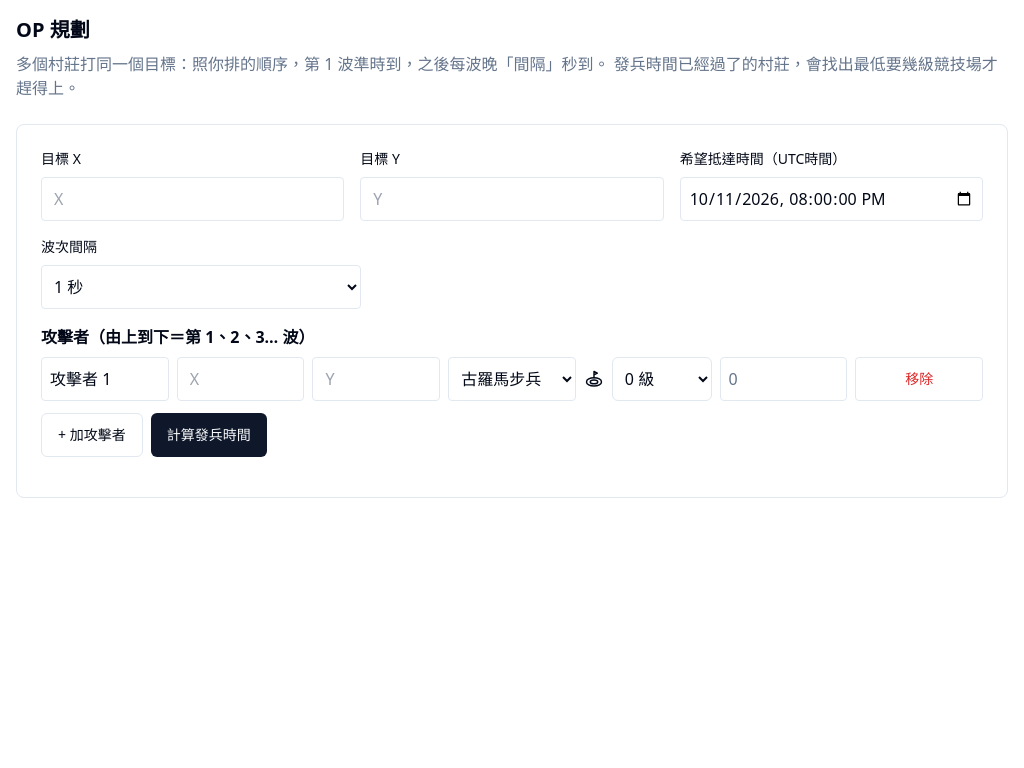
Test: 新欄位不填：送出的值跟以前一樣（新欄位都是 0，後端預設也是 0；PM） › TS optimizer
The width and height of the screenshot is (1024, 768).
In the field with test id "-y": [193, 199] box [41, 177, 344, 221], type "0"
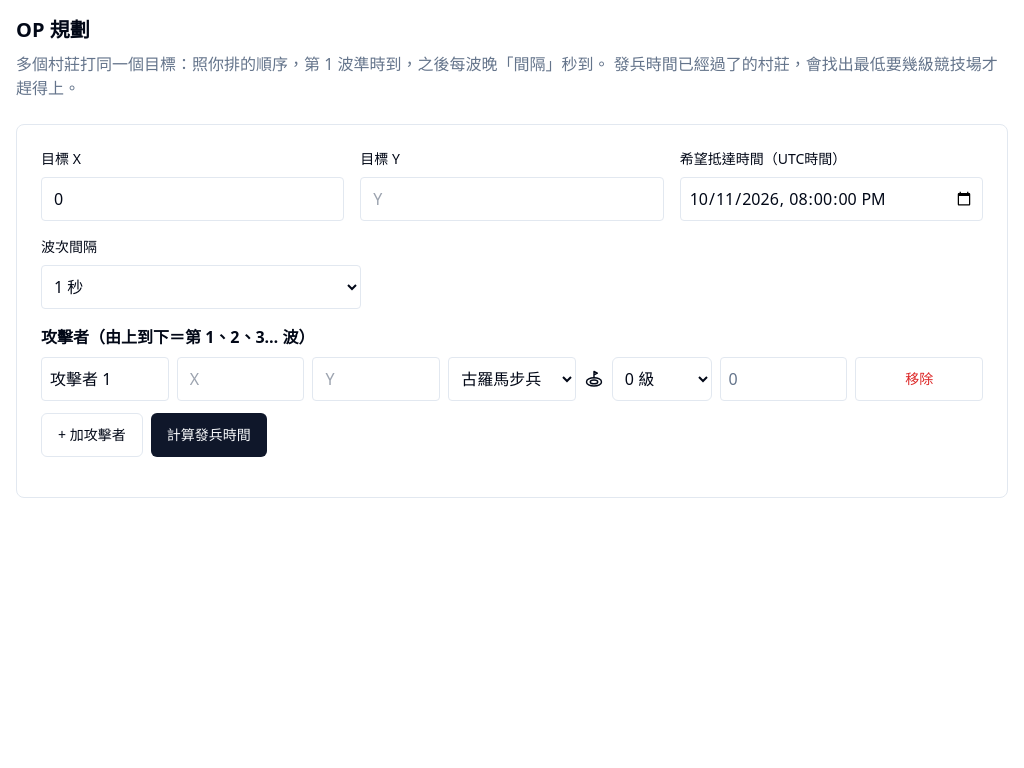
In the field with test id "-y": [512, 199] box [360, 177, 664, 221], type "0"
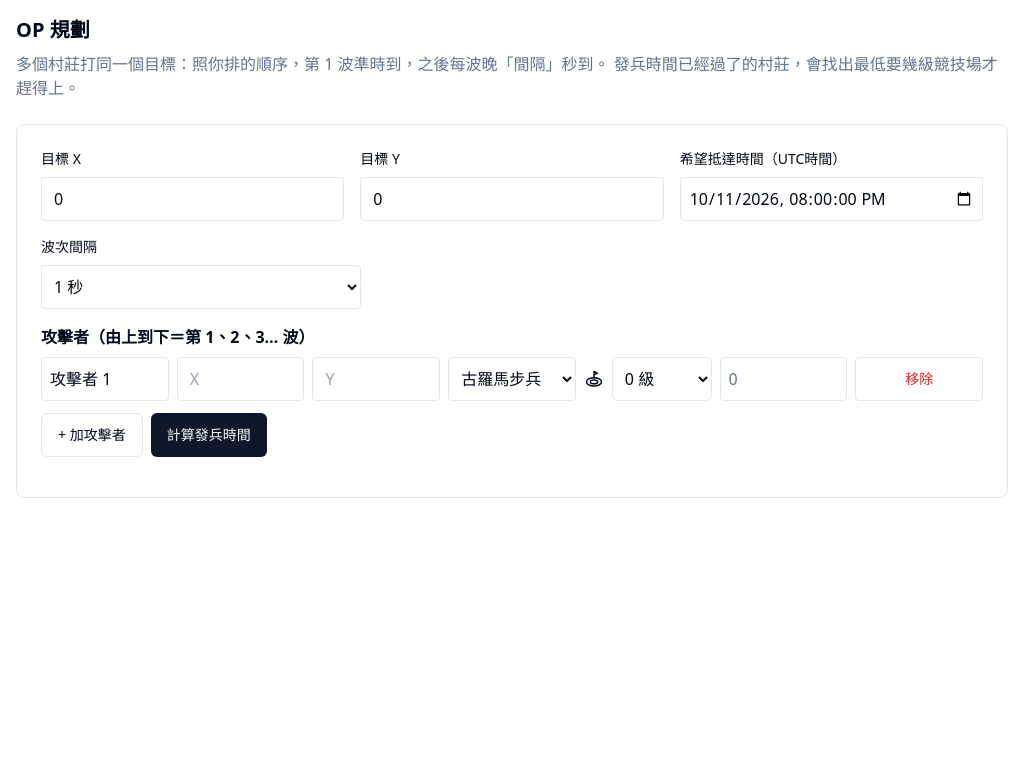
In the field with test id "-y": [241, 379] box [177, 357, 304, 401], type "0"
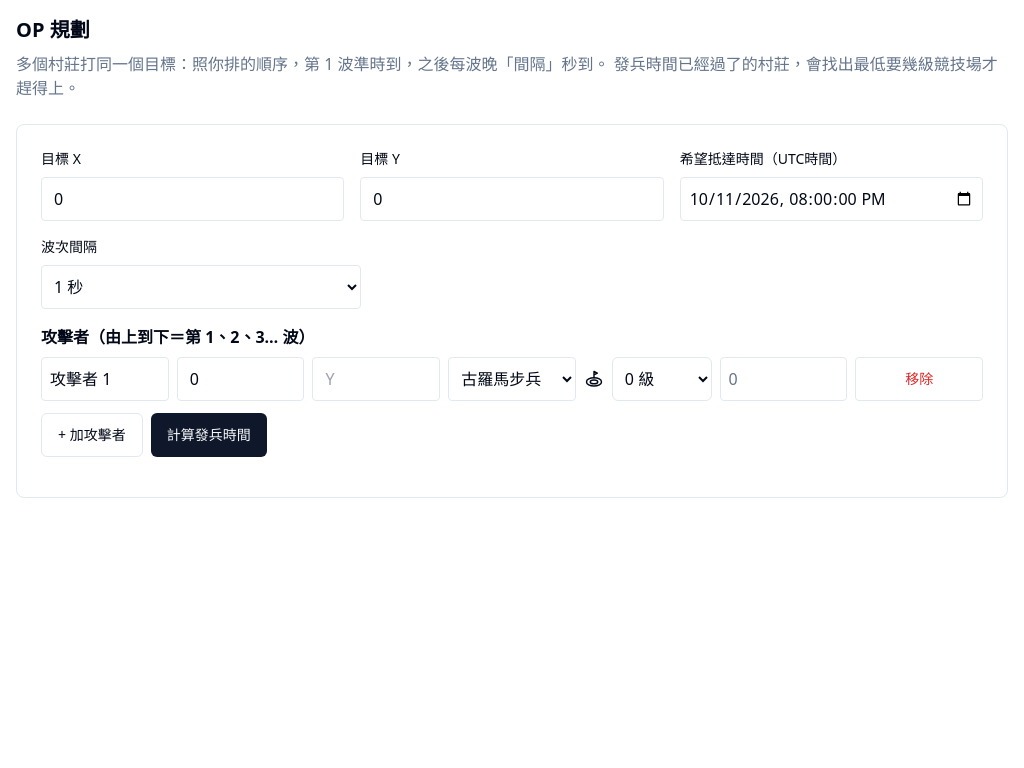
In the field with test id "-y": [376, 379] box [312, 357, 440, 401], type "0"
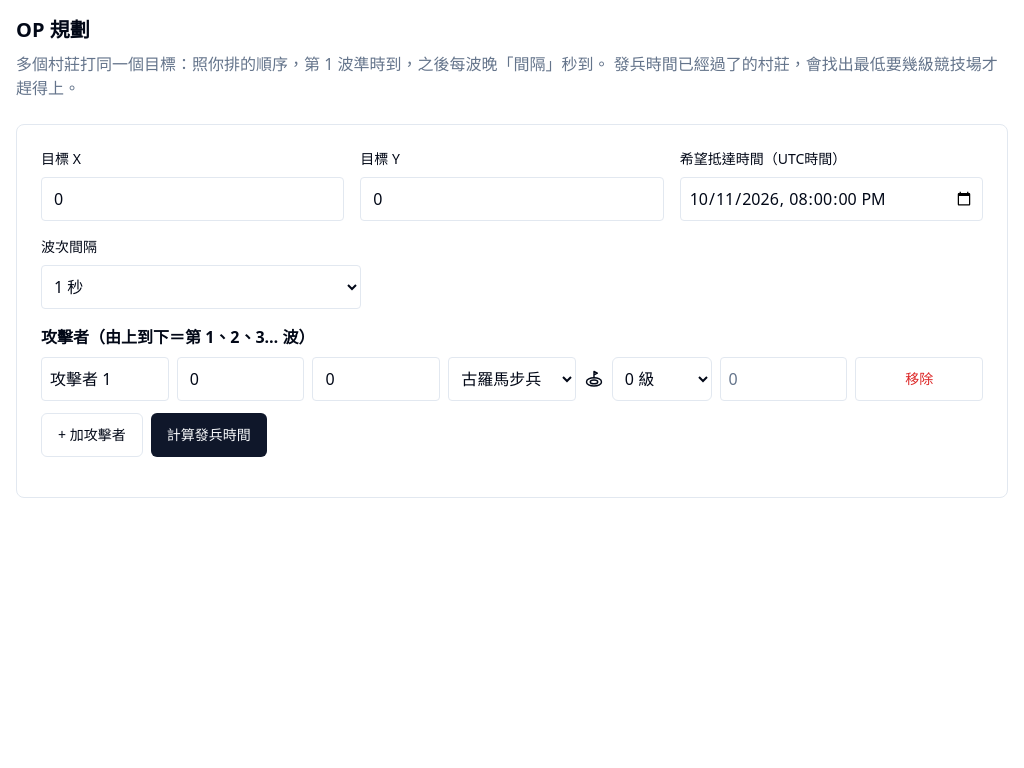
Click the button with test id "ts-submit": [209, 435] box [151, 413, 267, 457]
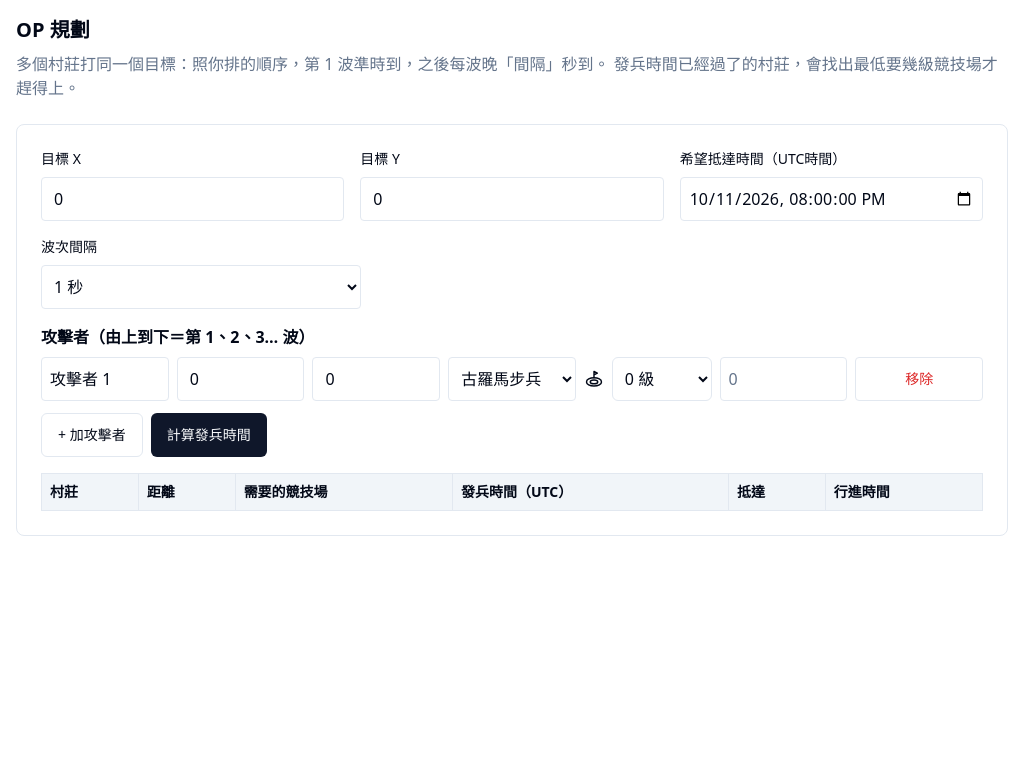
Check: the element with test id "ts-result" is shown, box [41, 473, 983, 511]
